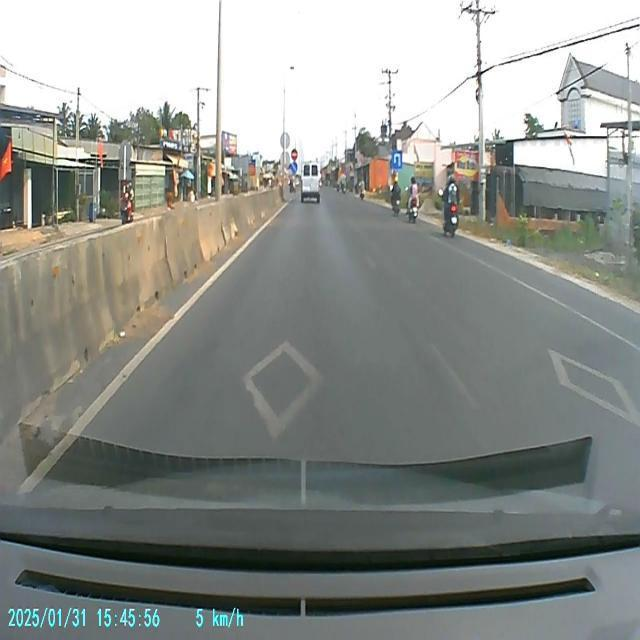102-cam-di-nguoc-chieu: (291, 148, 298, 162)
302a-huong-phai-di-vong-chuong-ngai-vat-1: (290, 162, 298, 174)
